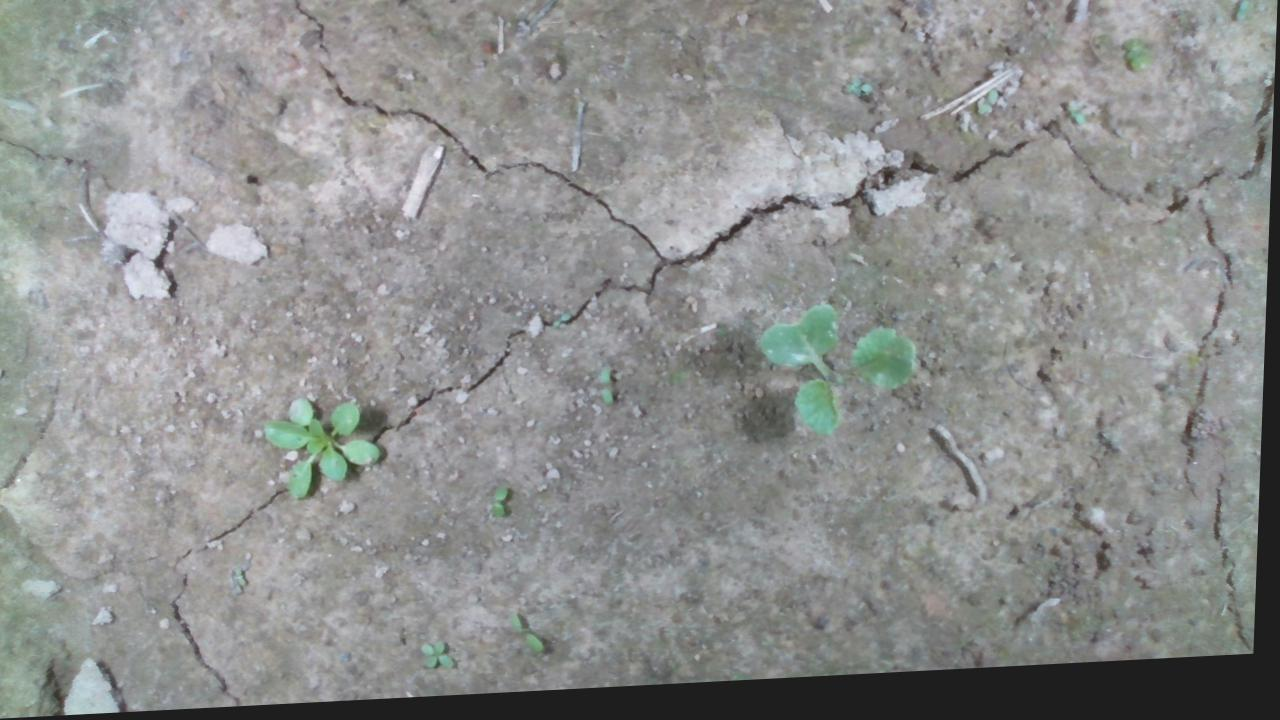weed: (511, 614, 550, 661), (425, 641, 462, 676), (1120, 47, 1151, 86), (839, 77, 873, 108), (493, 487, 514, 525), (599, 371, 618, 411), (1233, 8, 1252, 38)
